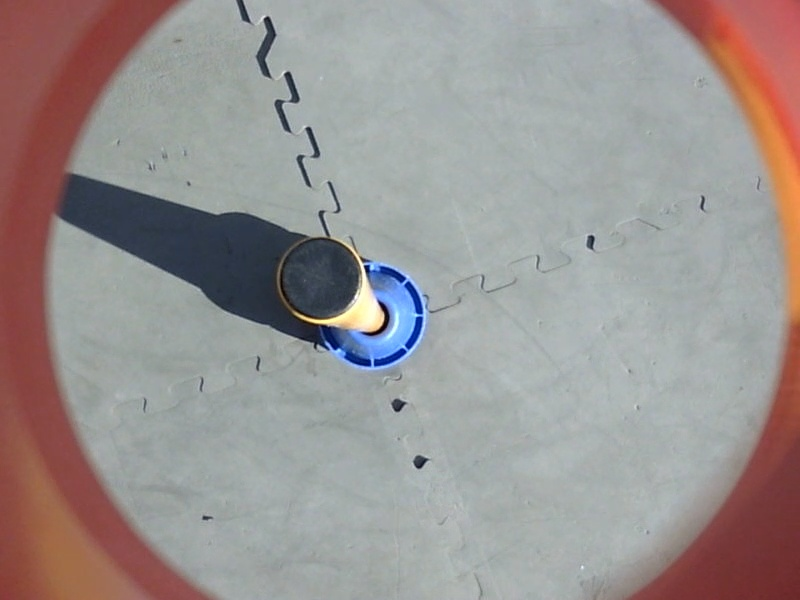tip: (272, 233, 370, 326)
